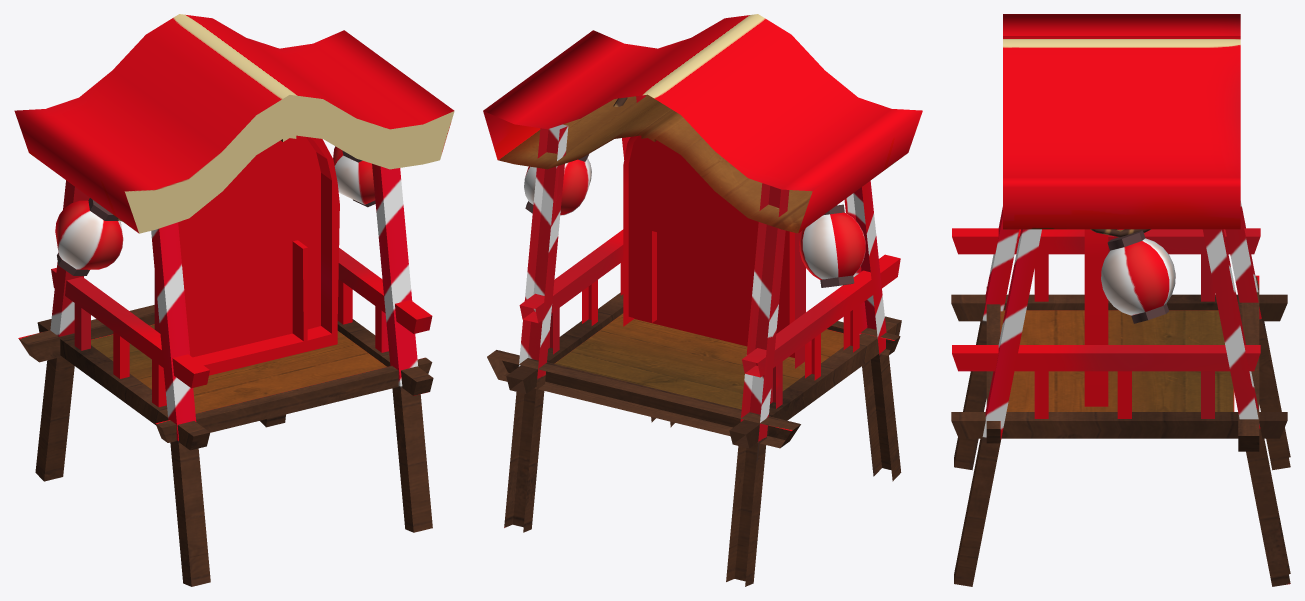
File: korinto.fbx
3 renders of one model, left to right at view 1: azimuth 30°, elevation 25°; view 2: azimuth 150°, elevation 25°; view 3: azimuth 270°, elevation 25°, orthographic. The views are drawn at different scales.
Visible parts, largest first — view 1: korinto; view 2: korinto; view 3: korinto.
Boxes of the visible parts, x1,y1,x2,y2 form: korinto: (14,14,454,586); korinto: (483,14,922,586); korinto: (951,14,1290,586).
Bounding box in the file's own units: 1770 × 2245 × 1428.
